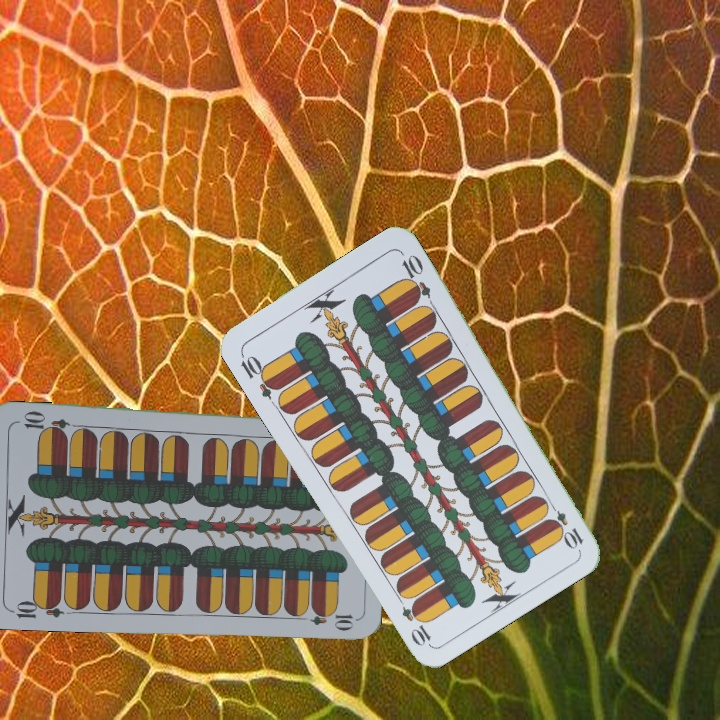E10: (236, 349, 282, 402), (543, 497, 586, 551), (6, 595, 65, 621)
